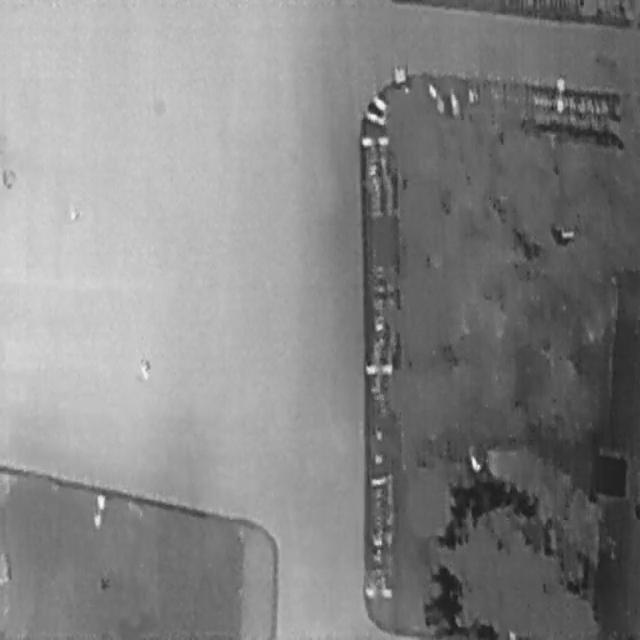Bicycle: (360, 106, 388, 126), (446, 86, 462, 116), (368, 91, 388, 112), (361, 135, 392, 145), (556, 74, 564, 110)
Person: (139, 357, 149, 378)
